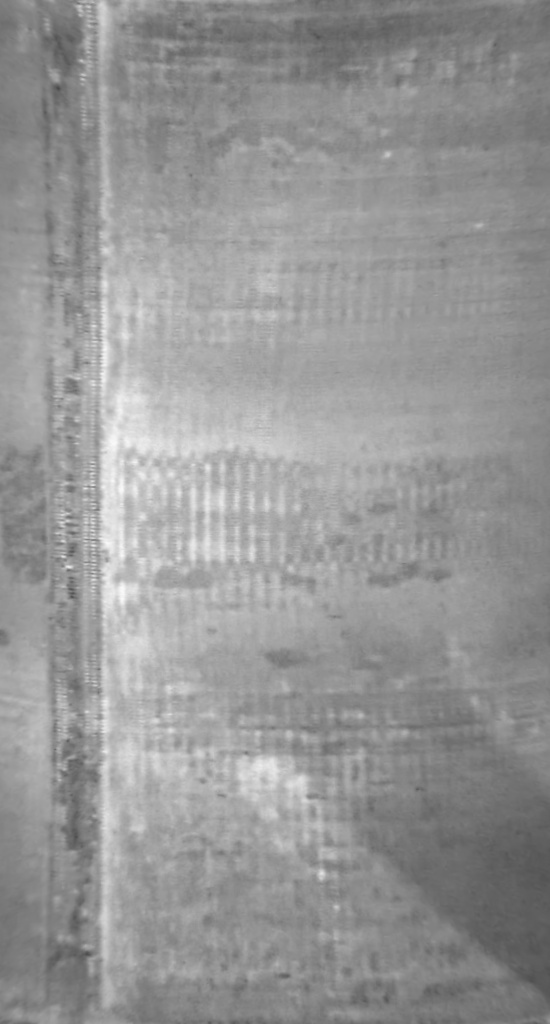splice: (25, 1, 122, 1021)
